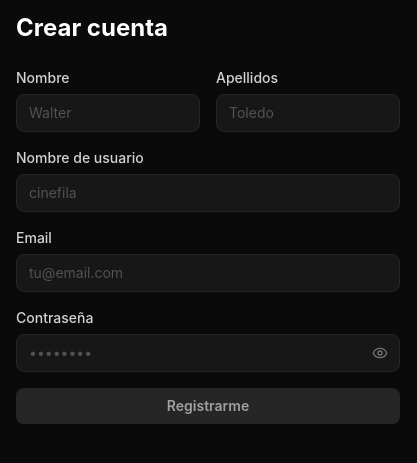
Test: AuthForm field validation › clears the warning as soon as the field becomes valid
Type "walter@" into the field labelled "Email".
click(208, 273); type("walter@")  # box [16, 254, 400, 292]
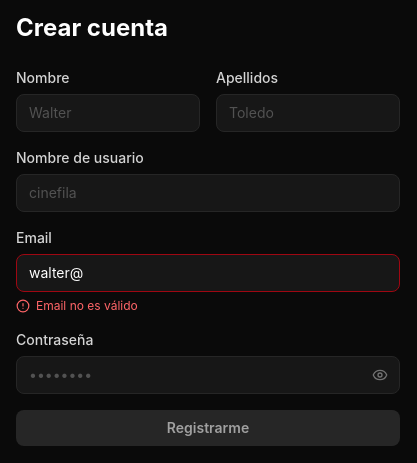
Replace the text in the field labelled "Email" with "walter@example.com" at (208, 273), box [16, 254, 400, 292]
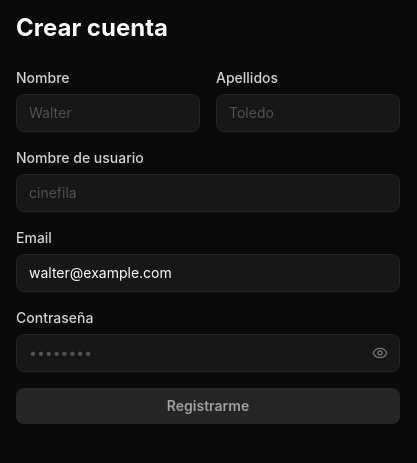
Expected: the text "Email no es válido" is gone
